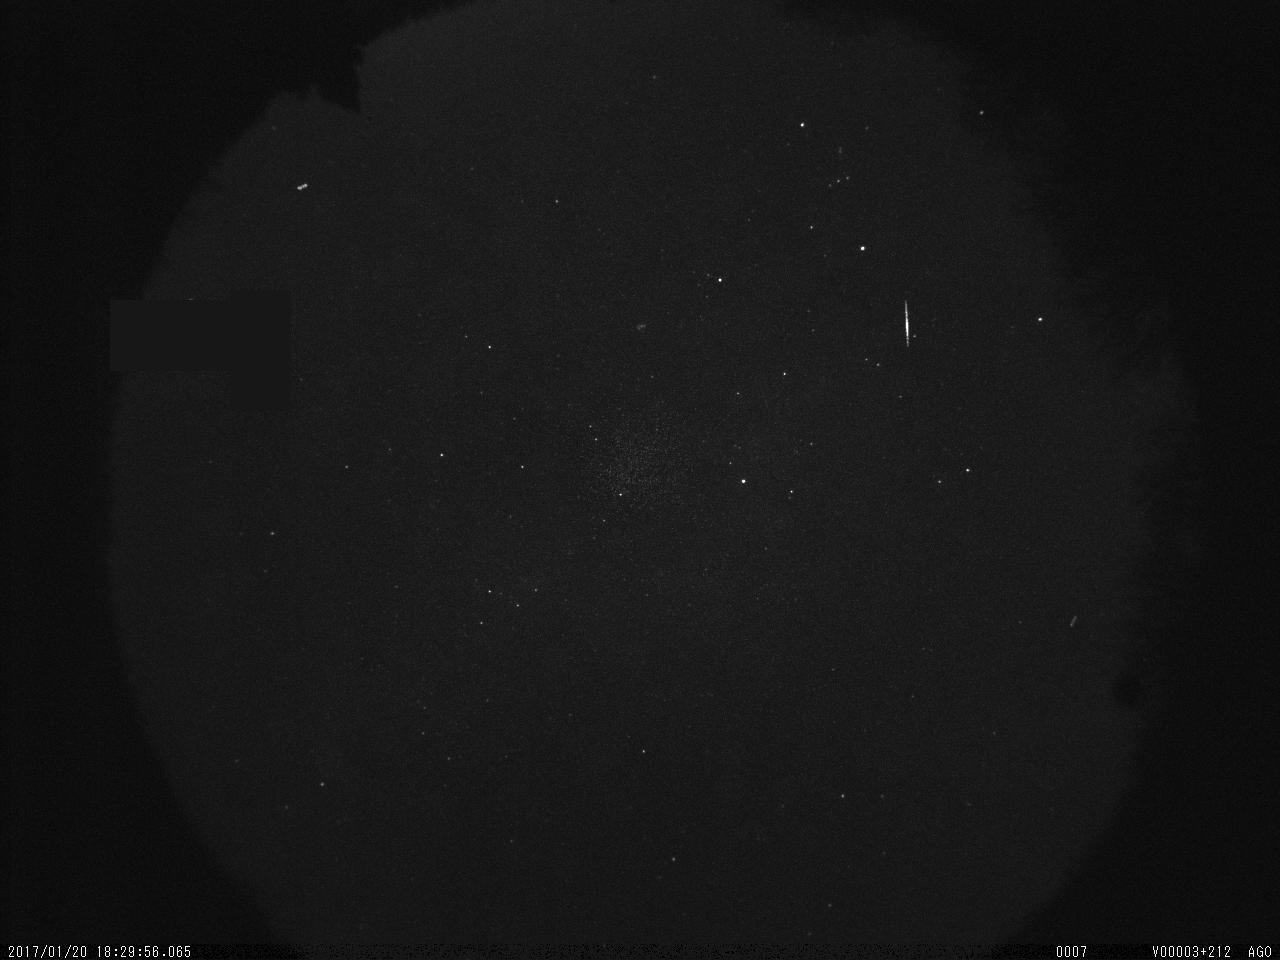meteor: (898, 293, 918, 357)
